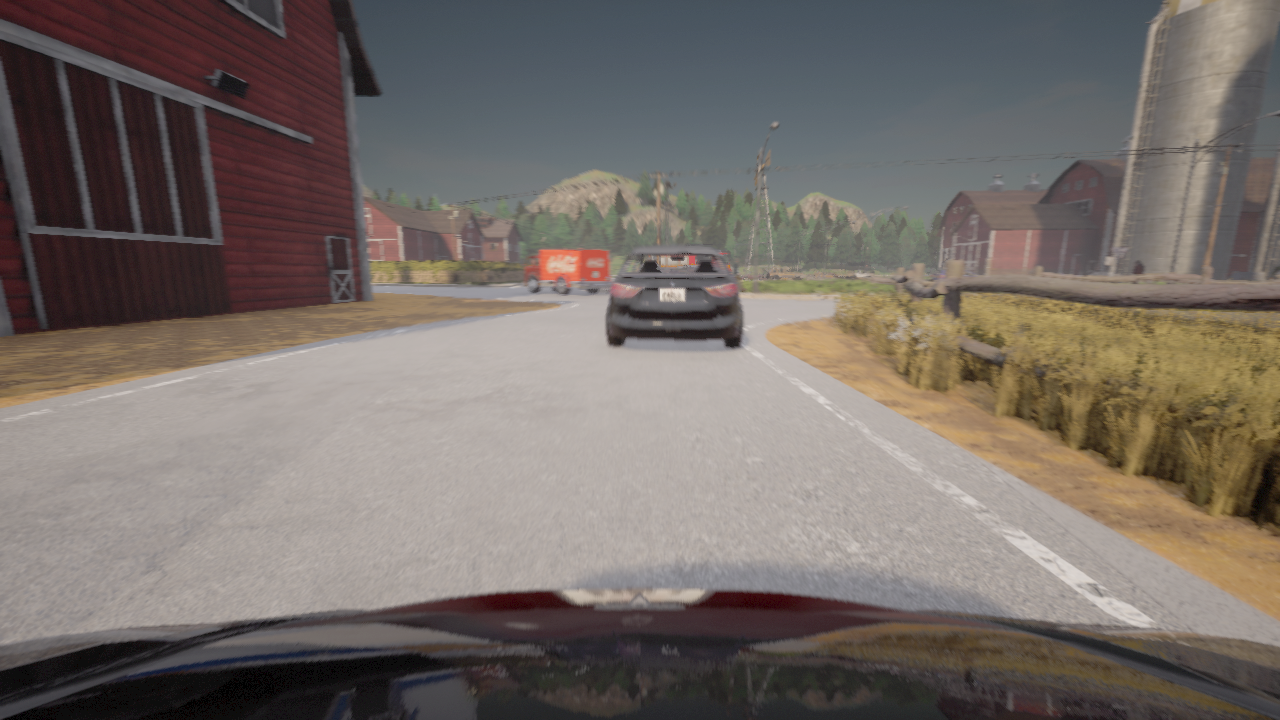cyclist: (0, 588, 1279, 719), (606, 245, 743, 347), (521, 248, 611, 294), (931, 269, 980, 280), (766, 268, 803, 279), (846, 268, 874, 279), (718, 250, 731, 273), (813, 271, 838, 278), (741, 272, 763, 279), (733, 275, 737, 284)
pedestrian: (733, 258, 745, 290), (1131, 261, 1144, 284), (1270, 266, 1279, 280), (1276, 271, 1279, 279)
